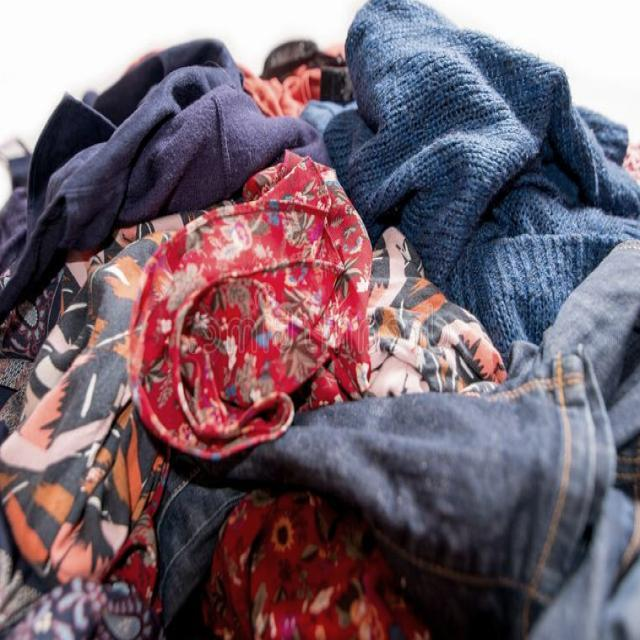clothes: (147, 204, 596, 618)
